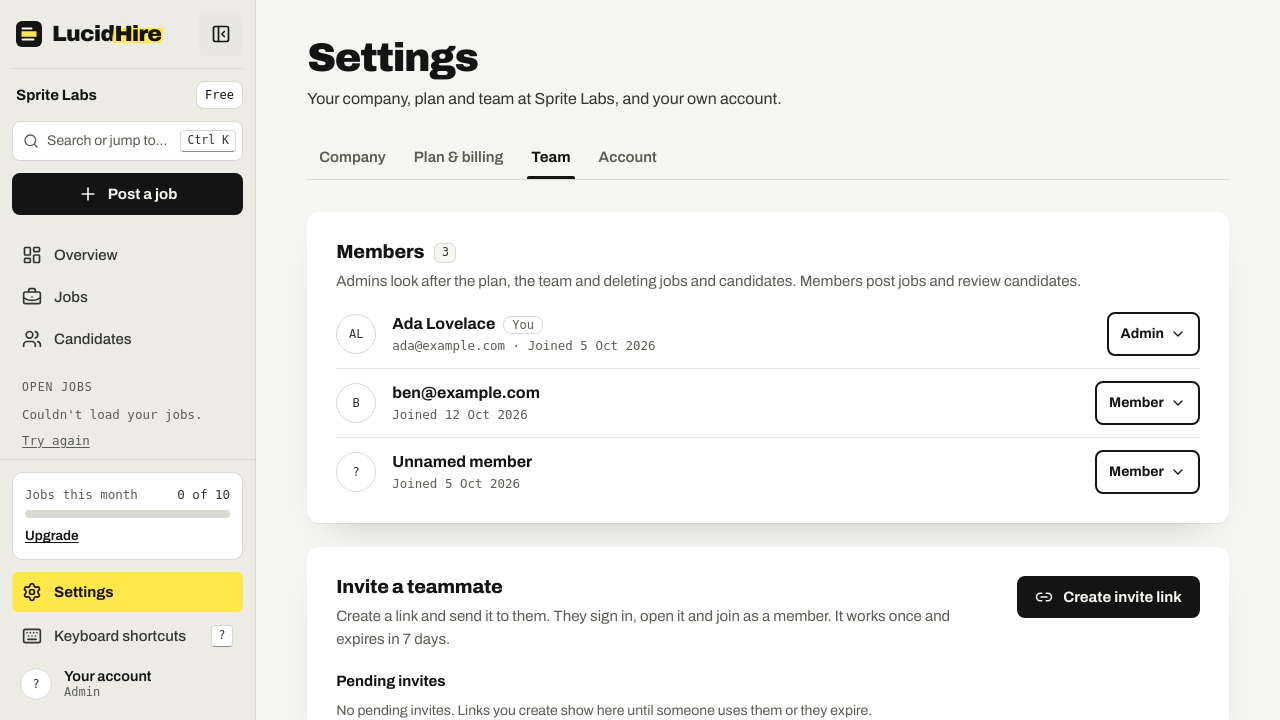
Test: the members card › leaves the role alone when the admin cancels
The image size is (1280, 720).
Click the button named "Role for Ada Lovelace: Admin": [1153, 334] box [1106,312,1200,356]
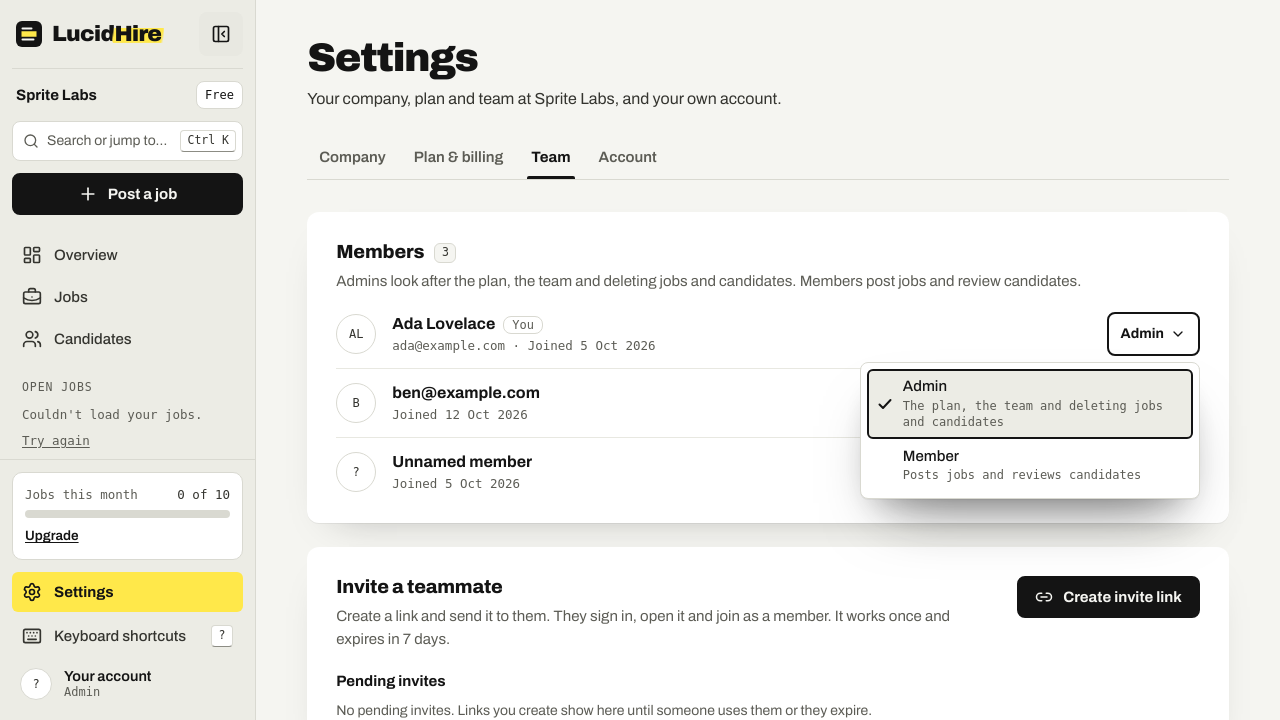
Click the menu item "Member Posts jobs and reviews candidates": [931, 456] box [867,439,1193,492]
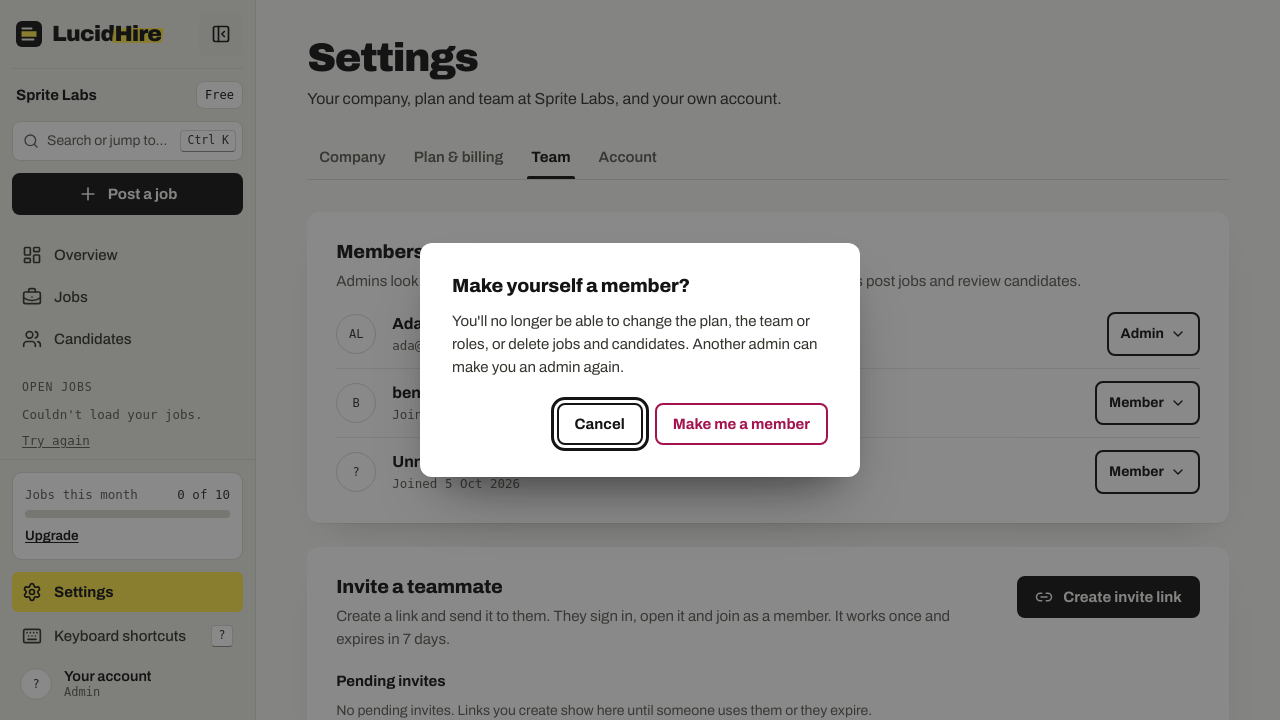
Click the button "Cancel": [600, 424] box [557,403,643,445]
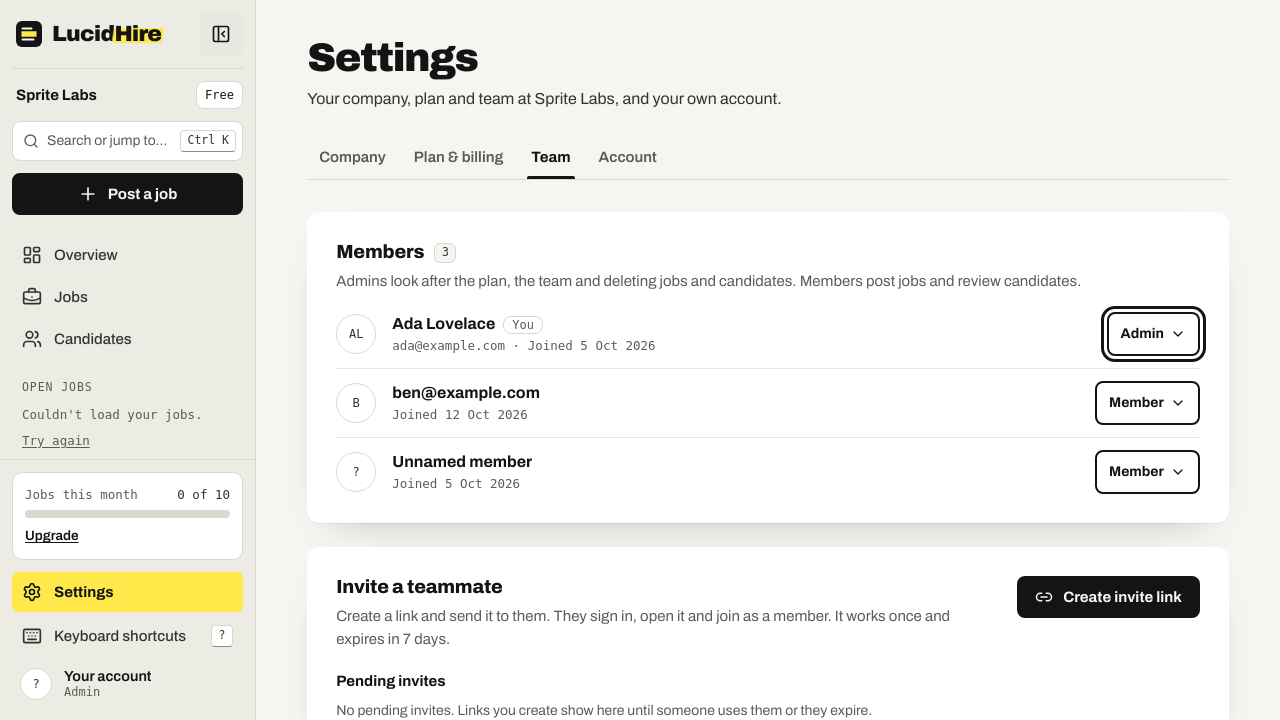
expect the dialog is gone: met
